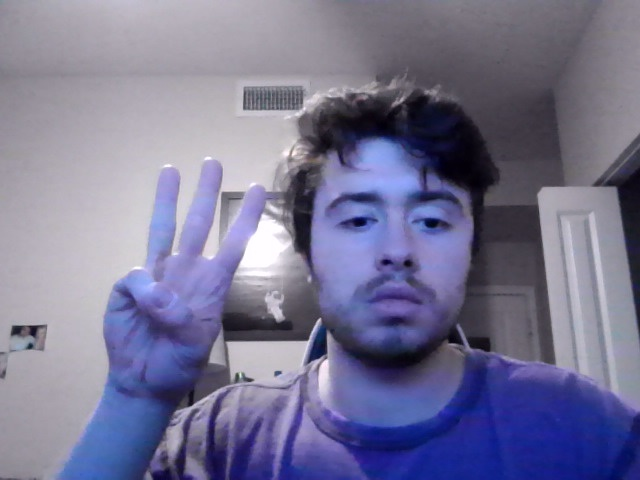w: (103, 156, 267, 426)
